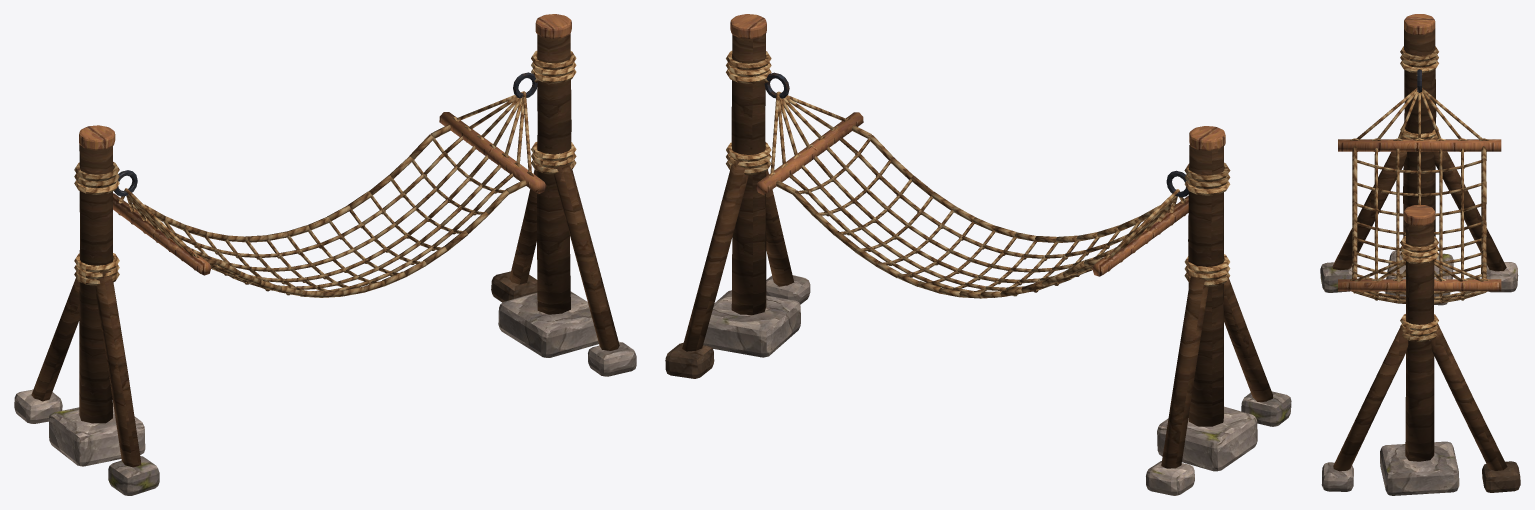
The model's file is hammock.glb.
3 renders of one model, left to right at view 1: azimuth 30°, elevation 25°; view 2: azimuth 150°, elevation 25°; view 3: azimuth 270°, elevation 25°, orthographic. The views are drawn at different scales.
Parts seen in each view (by area): view 1: model; view 2: model; view 3: model.
Part boxes in pixels (bbox=[...]): model: bbox=[14, 14, 636, 495]; model: bbox=[665, 14, 1291, 495]; model: bbox=[1320, 14, 1520, 495].
Bounding box in the file's own units: 2.44 × 1.4 × 0.9321.
12 materials, 12 textured.
